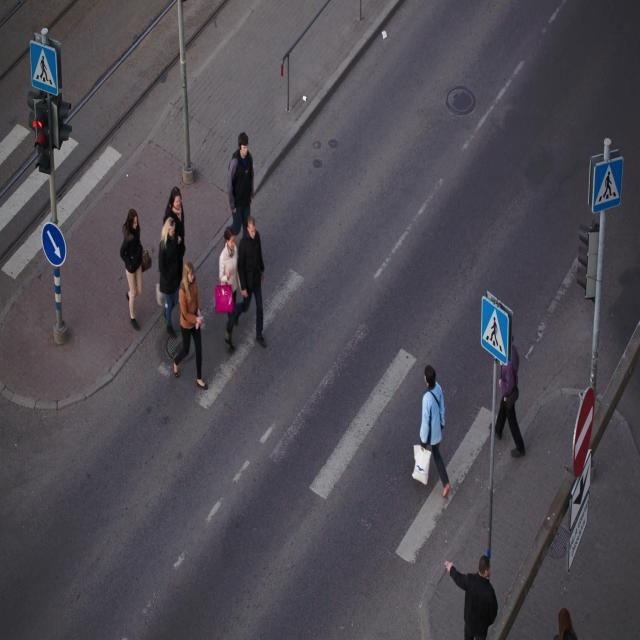pedestrian: (215, 133, 266, 350), (157, 187, 207, 388), (420, 366, 450, 497), (120, 210, 152, 329)
